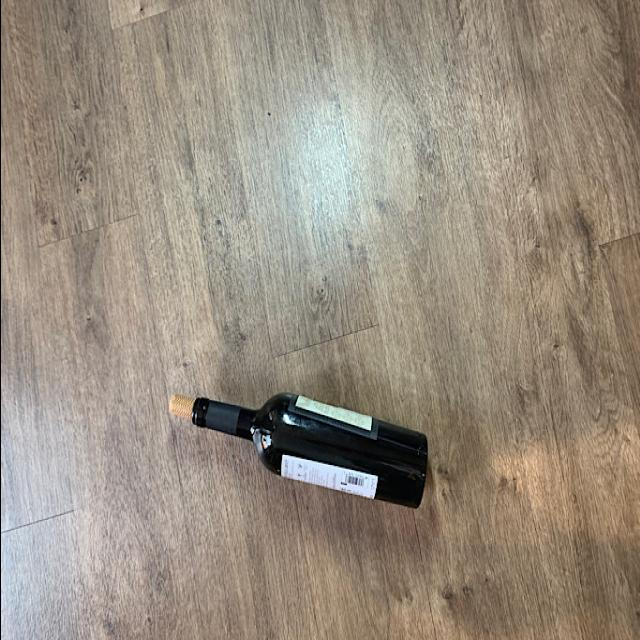Glass Bottle: (187, 391, 431, 509)
